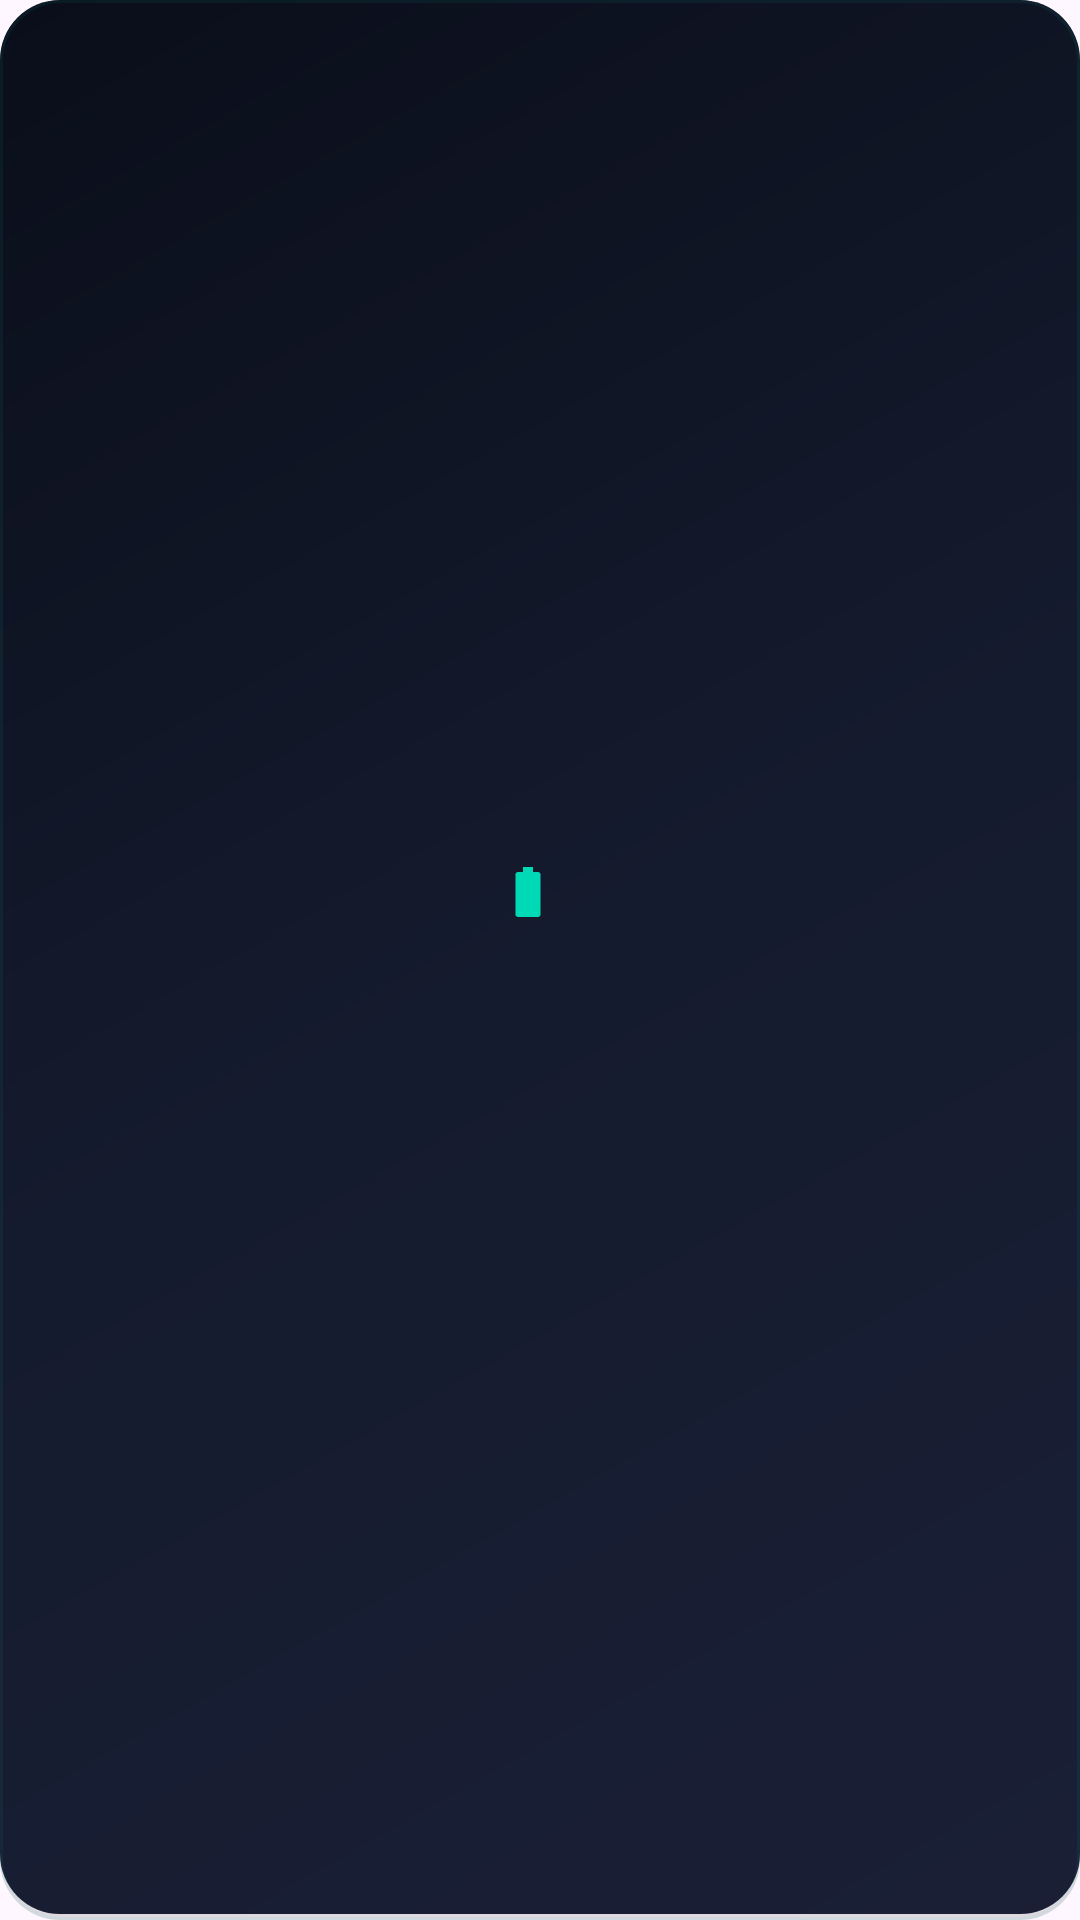

Point at icon controls on the screen. Image size 1080*1920, points as (x,y).
Battery icon: (528,892)
